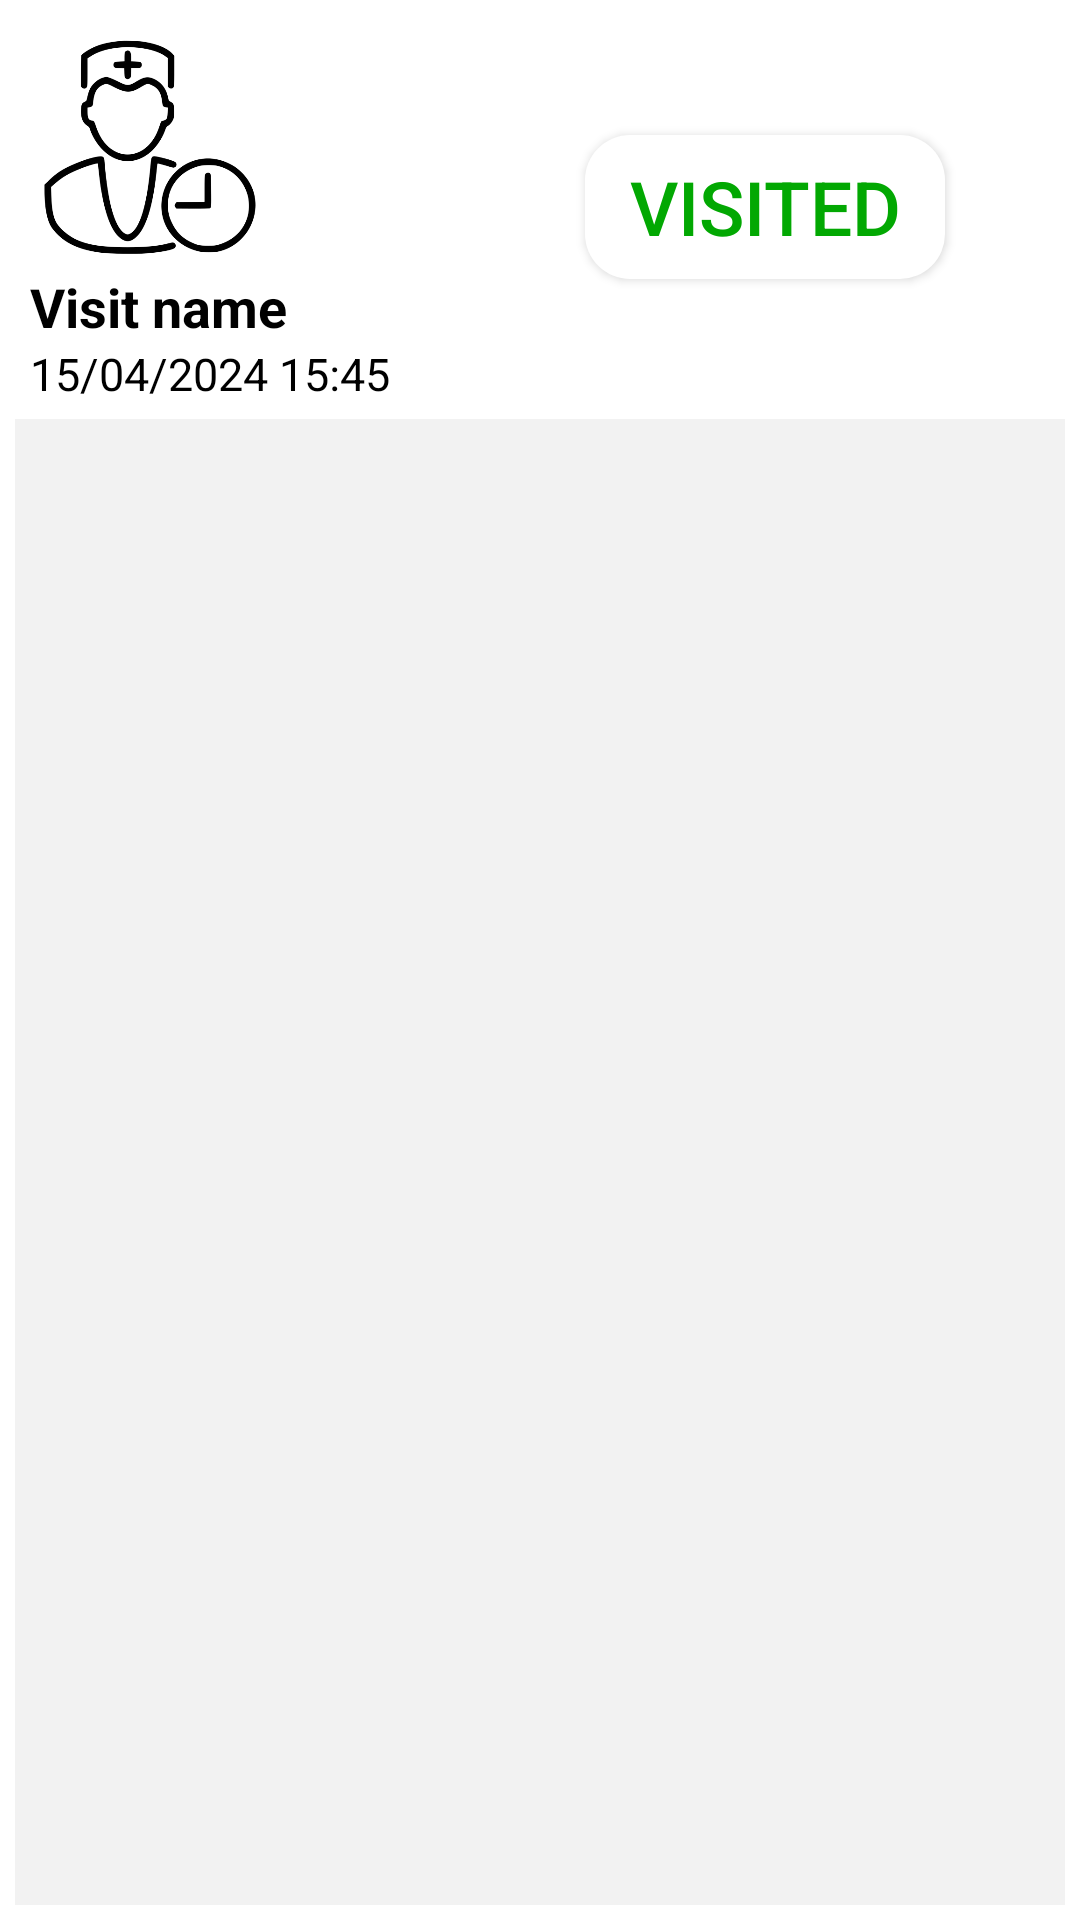

Where to tap for icons on this 1080 × 1920 app screen, as point (x, y):
doctor list: point (150, 147)
